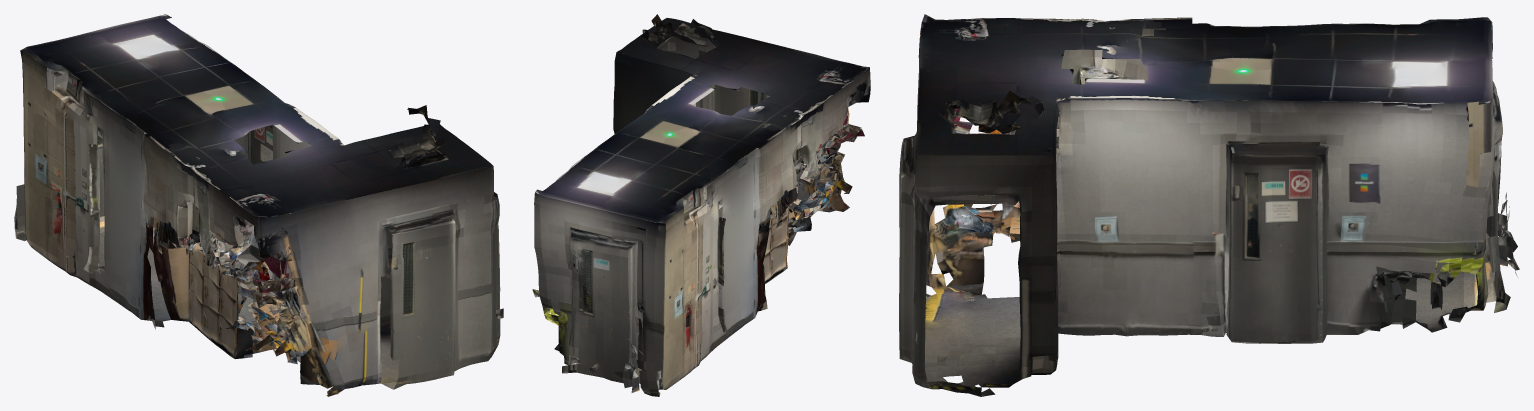
3 views of the same model, side by side, from view 1: azimuth 30°, elevation 25°; view 2: azimuth 150°, elevation 25°; view 3: azimuth 270°, elevation 25° (orthographic). The views are drawn at different scales.
Parts seen in each view (by area): view 1: 1_m108-IM; view 2: 1_m108-IM; view 3: 1_m108-IM.
Part boxes in pixels (x1,y1,x2,y2): 1_m108-IM: [14, 14, 503, 396]; 1_m108-IM: [532, 14, 870, 396]; 1_m108-IM: [899, 14, 1519, 396].
Size of the model in its own units: 339 by 305 by 596.
Materials: 1 (1 with a texture image).
